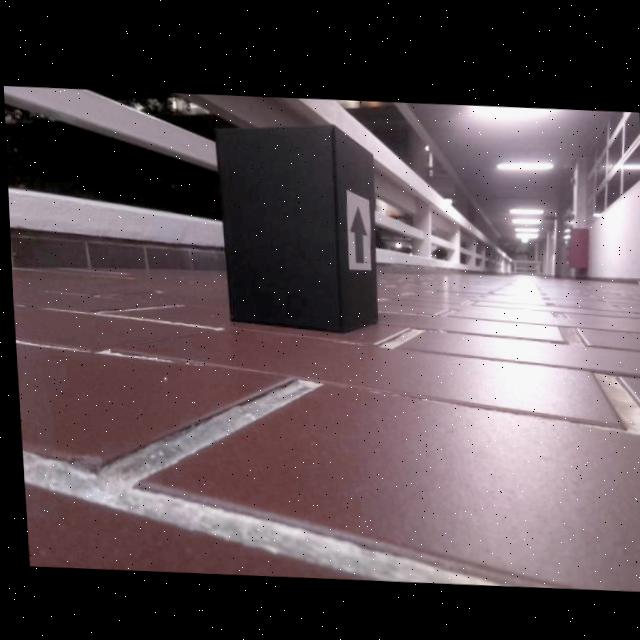UP: (348, 201, 366, 259)
